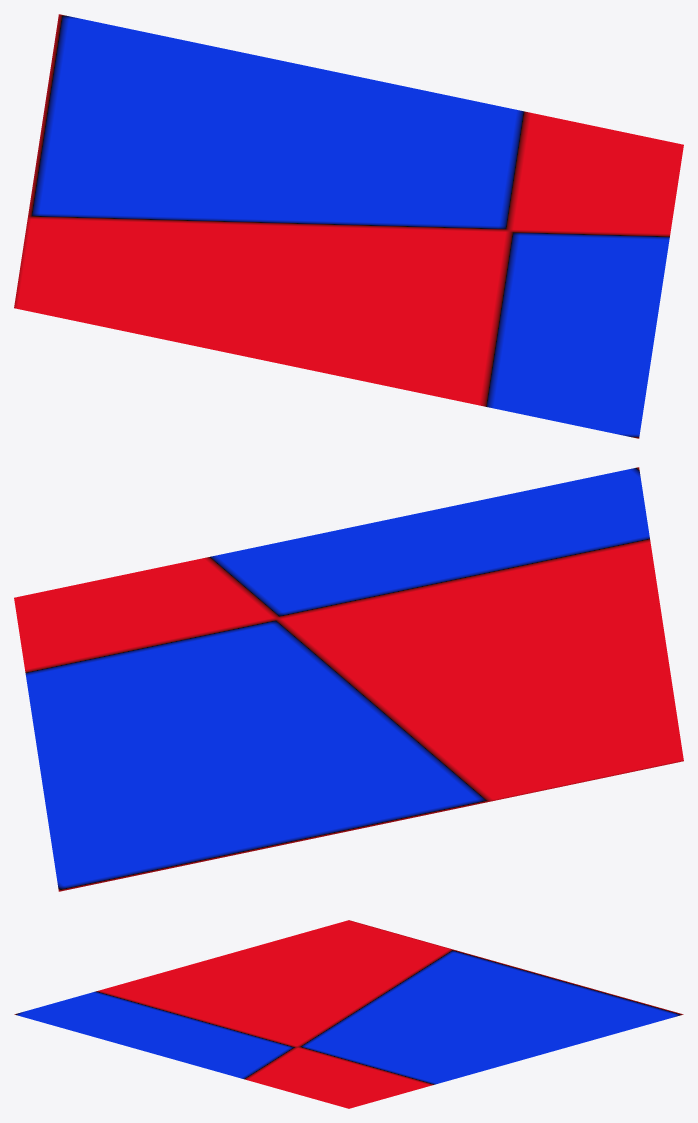
3 renders of one model, top to bottom at view 1: azimuth 30°, elevation 25°; view 2: azimuth 150°, elevation 25°; view 3: azimuth 270°, elevation 25°, orthographic. The views are drawn at different scales.
Parts seen in each view (by area): view 1: Plane; view 2: Plane; view 3: Plane.
Part boxes in pixels (bbox=[...]): Plane: bbox=[14, 14, 683, 438]; Plane: bbox=[14, 467, 683, 891]; Plane: bbox=[14, 920, 683, 1108].
Bounding box in the file's own units: 50.05 × 2.12e-05 × 75.07.
Materials: 1 (1 with a texture image).
